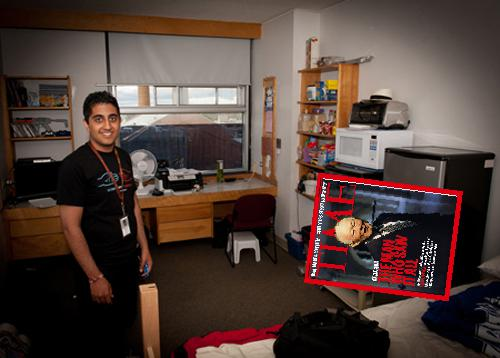times: (302, 171, 465, 303)
